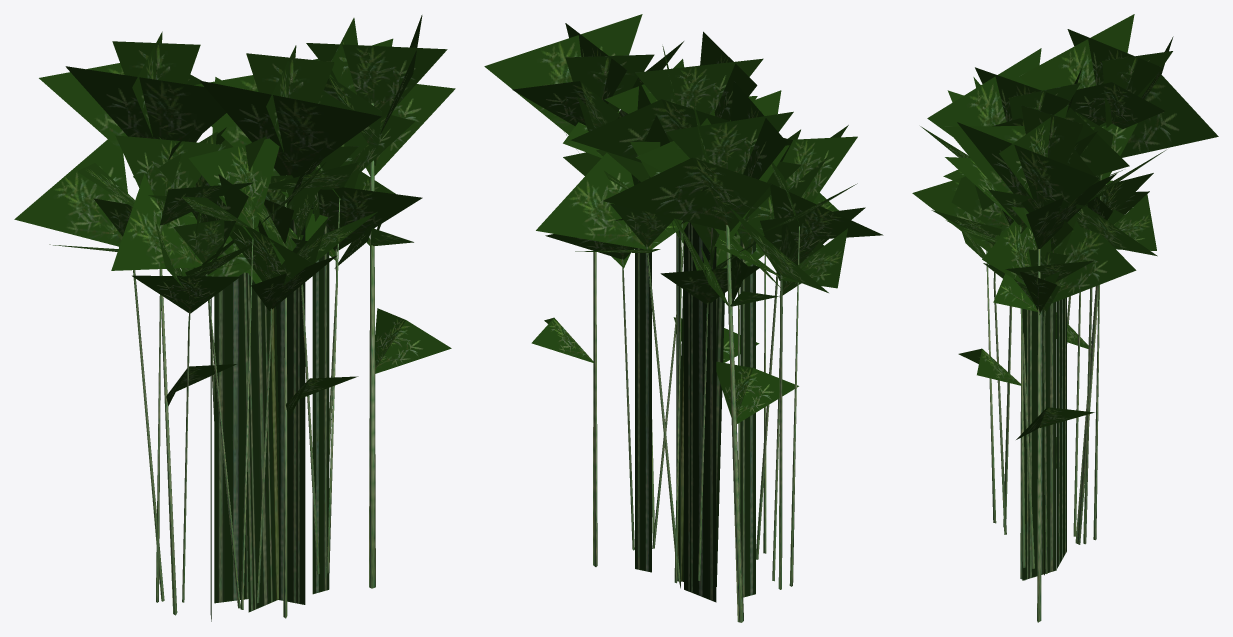
The model's file is leaf_bamboogrove_l2.fbx.
The picture shows the model from 3 angles, left to right: view 1: azimuth 30°, elevation 25°; view 2: azimuth 150°, elevation 25°; view 3: azimuth 270°, elevation 25°; orthographic projection. The views are drawn at different scales.
Visible parts, largest first — view 1: mesh_node; view 2: mesh_node; view 3: mesh_node.
Boxes of the visible parts, left/top/right/bottom form: mesh_node: left=14, top=15, right=455, bottom=621; mesh_node: left=484, top=14, right=883, bottom=622; mesh_node: left=912, top=14, right=1218, bottom=622.
Bounding box in the file's own units: 11.2 × 15.27 × 8.49.
